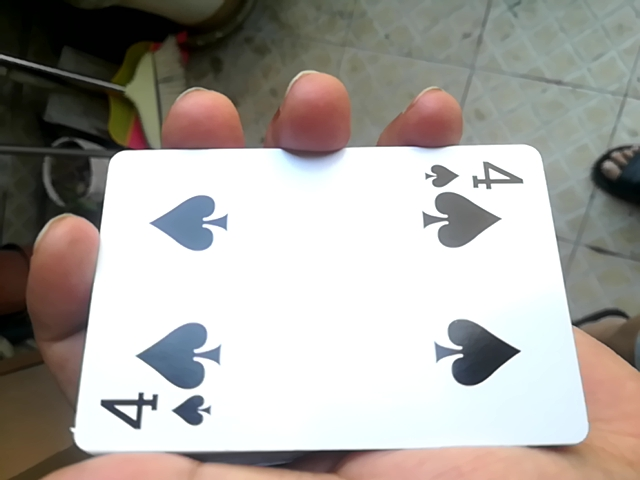ht 4: (66, 133, 589, 464)
